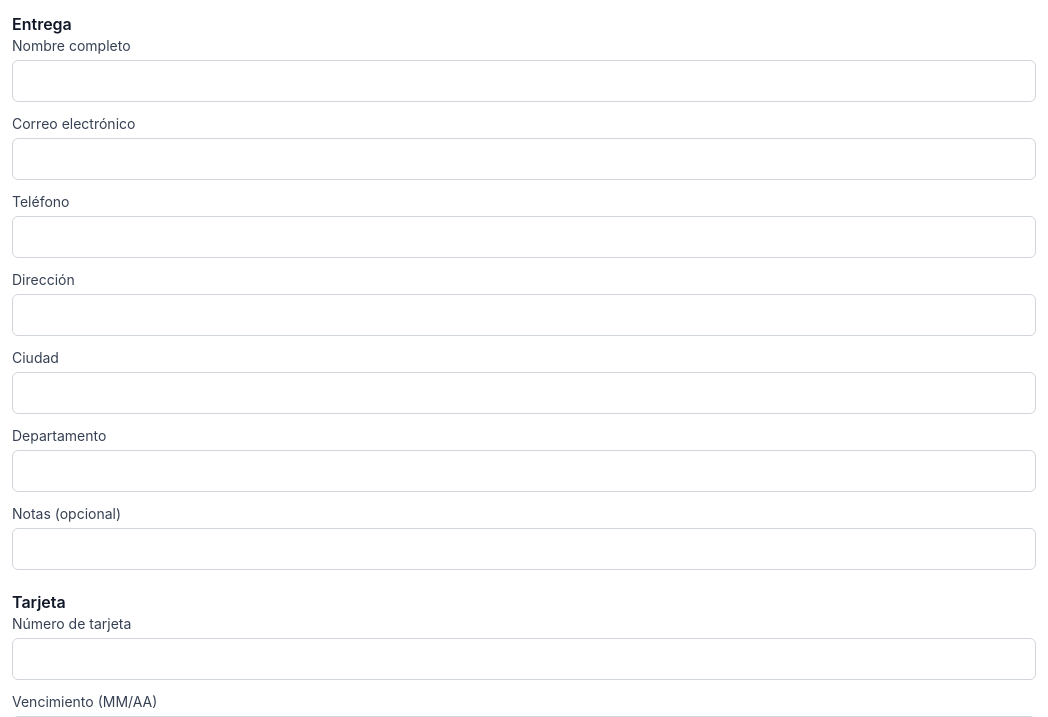
Test: CardAndDeliveryForm › validates a field when it loses focus
Type "no-es-un-email" into the field labelled "Correo electrónico" at (524, 159), box [12, 138, 1036, 180]
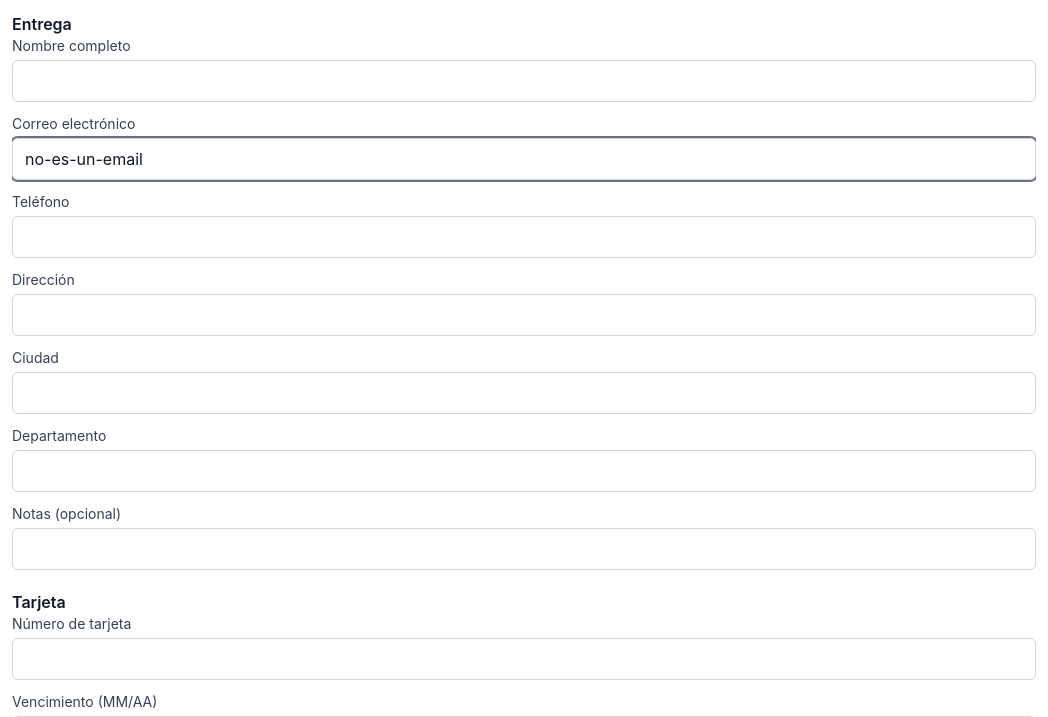
Press Tab
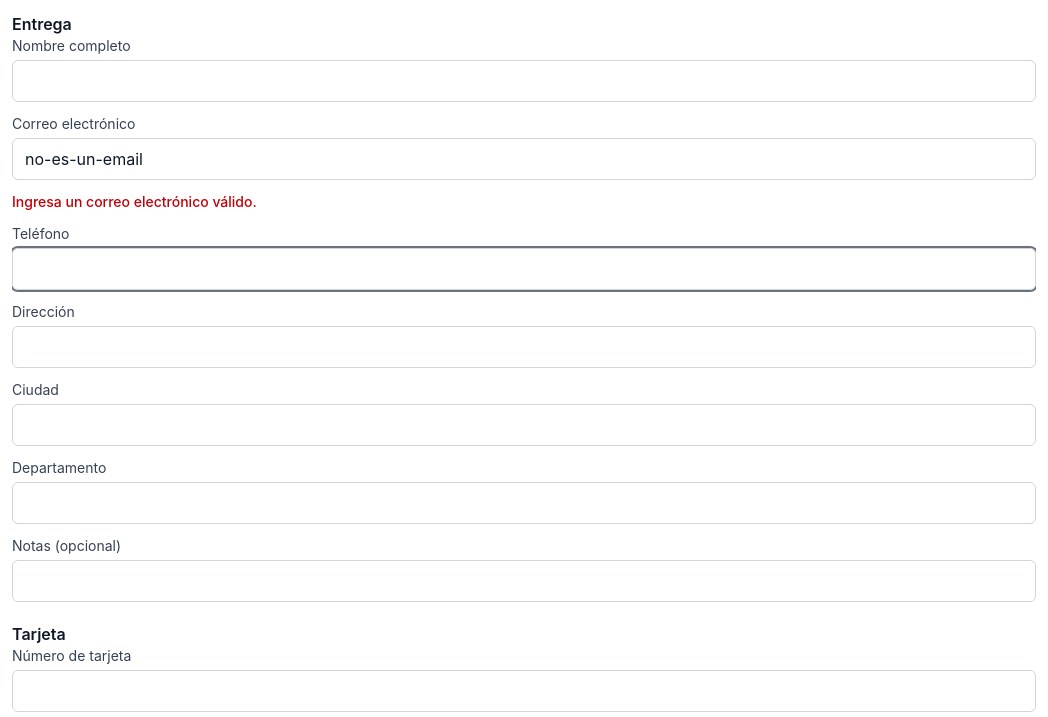
Check: the text "Ingresa un correo electrónico válido." is shown, box [12, 193, 257, 210]
